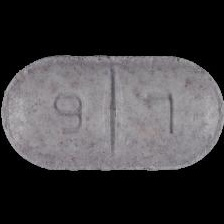0378-1805: (0, 0, 224, 224)
